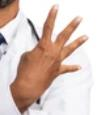right: (14, 4, 90, 105)
